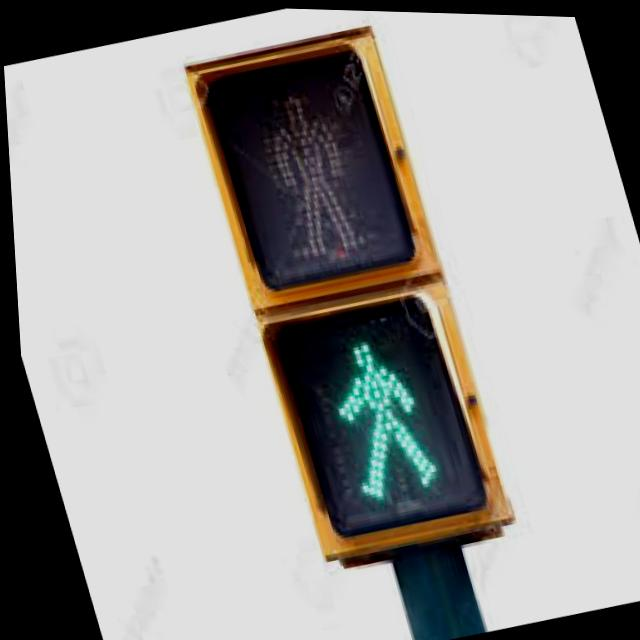green_light: (296, 306, 457, 517)
